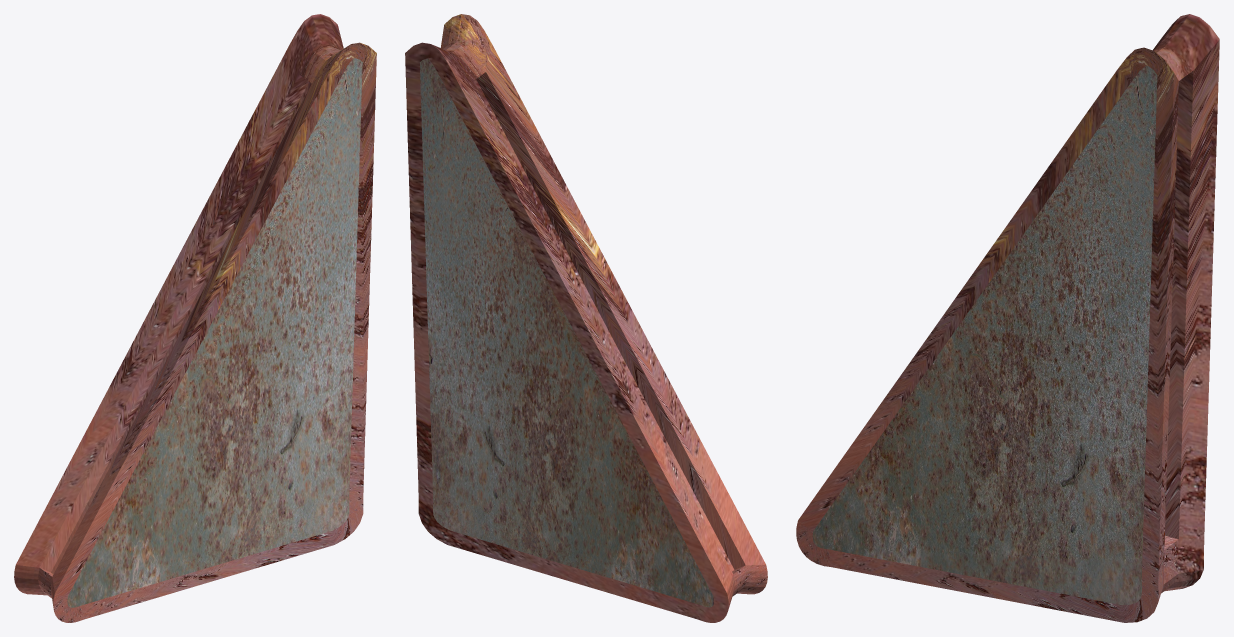
The model's file is ButoirD.obj.
The picture shows the model from 3 angles, left to right: view 1: azimuth 30°, elevation 25°; view 2: azimuth 150°, elevation 25°; view 3: azimuth 330°, elevation 25°; orthographic projection. The views are drawn at different scales.
Parts seen in each view (by area): view 1: Cube_Cube.000, Cube_Cube.002; view 2: Cube_Cube.000, Cube_Cube.002; view 3: Cube_Cube.000, Cube_Cube.002.
Boxes of the visible parts, x1,y1,x2,y2 form: Cube_Cube.000: (67,58,362,607); Cube_Cube.002: (14,14,376,622); Cube_Cube.000: (419,58,713,607); Cube_Cube.002: (405,14,767,622); Cube_Cube.000: (812,66,1157,605); Cube_Cube.002: (796,14,1219,622).
Size of the model in its own units: 48.1 by 72.58 by 10.08.
